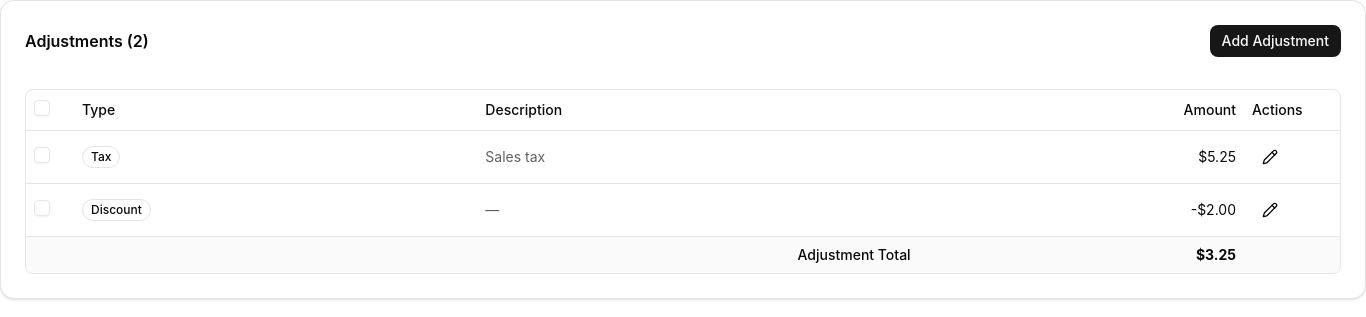
Test: AdjustmentsCard › shows Delete button with count when items are selected
This screenshot has width=1366, height=317.
Expected: the button "delete" is not shown
Select one
What coordinates should you click on to do the following:
click the checkbox named "Select Tax adjustment"
I would click on:
 (42, 154)
Its box is x1=34 y1=146 x2=50 y2=162.
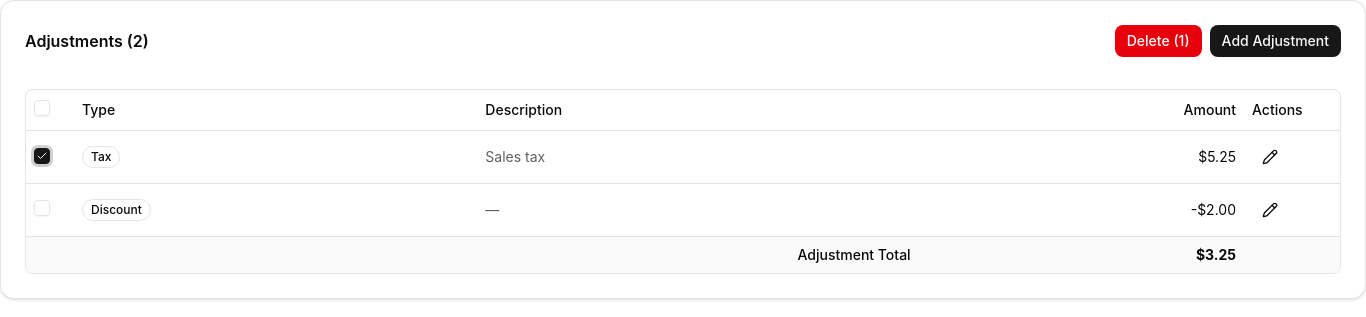
Expected: the button "Delete (1)" is shown, x1=1115 y1=25 x2=1202 y2=57
